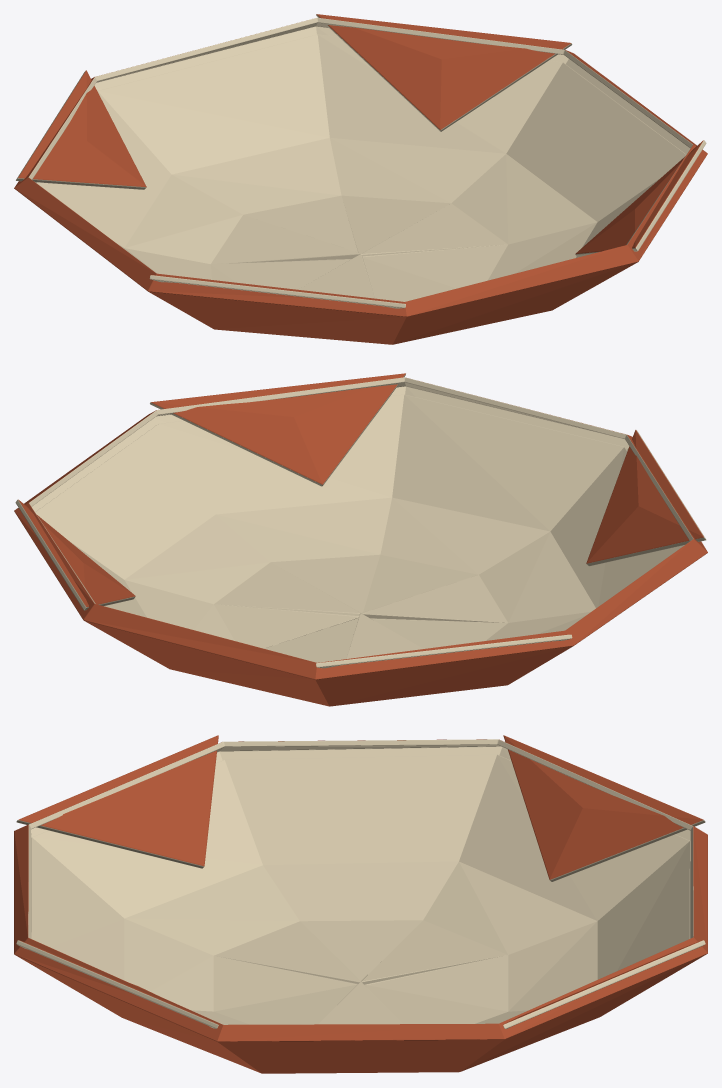
Rendered from achievement-first-meal.glb.
3 views of the same model, one above another, from view 1: azimuth 30°, elevation 25°; view 2: azimuth 150°, elevation 25°; view 3: azimuth 270°, elevation 25° (orthographic). The views are drawn at different scales.
Parts seen in each view (by area): view 1: achievement-first-meal; view 2: achievement-first-meal; view 3: achievement-first-meal.
Part boxes in pixels (<box>): achievement-first-meal: <box>14,14,707,344</box>; achievement-first-meal: <box>14,373,707,706</box>; achievement-first-meal: <box>14,735,707,1073</box>.
Bounding box in the file's own units: 1.58 × 0.2945 × 1.58.
